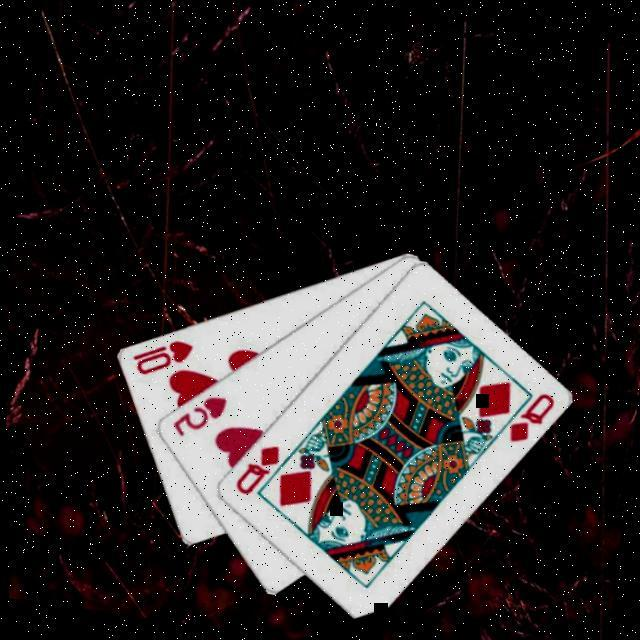10H: (123, 332, 194, 385)
5H: (163, 387, 228, 445)
QD: (499, 384, 556, 450), (226, 437, 281, 503)
